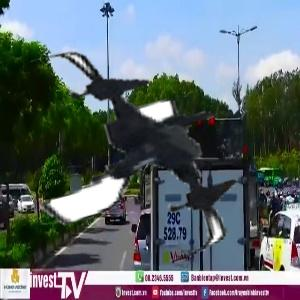drone: (19, 36, 255, 272)
